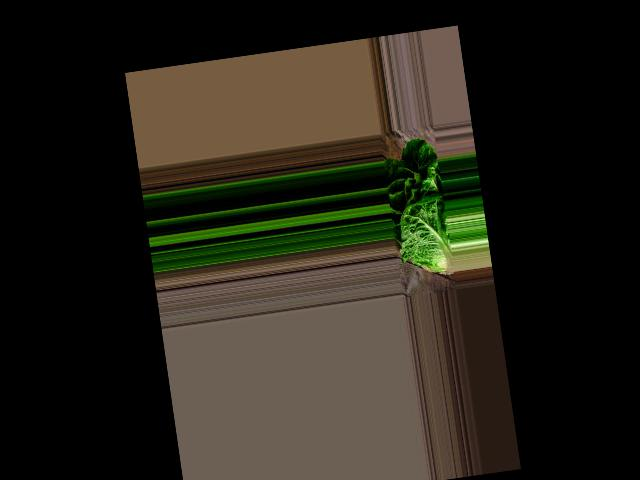lettuce: (381, 144, 453, 277)
